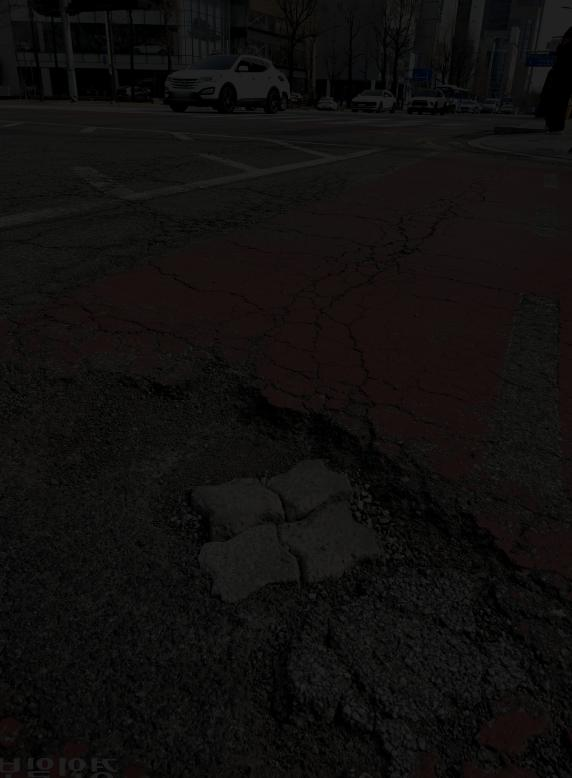pothole: (0, 329, 572, 778)
